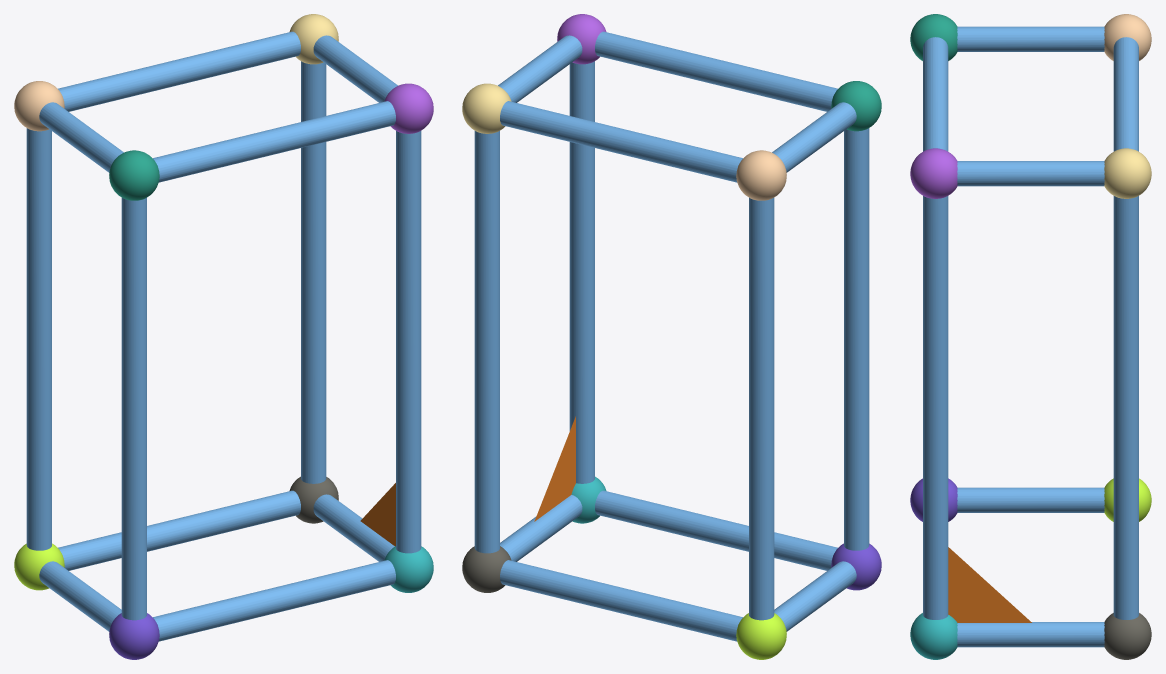
3 views of the same model, side by side, from view 1: azimuth 30°, elevation 25°; view 2: azimuth 150°, elevation 25°; view 3: azimuth 270°, elevation 25° (orthographic).
Visible parts, largest first — view 1: Object_3, Object_19, Object_20, Object_18, Object_21, Object_2, Object_23, Object_17, Object_24, Object_22; view 2: Object_3, Object_2, Object_23, Object_17, Object_24, Object_22, Object_19, Object_20, Object_18, Object_21; view 3: Object_3, Object_24, Object_17, Object_18, Object_22, Object_21, Object_2, Object_19, Object_20, Object_23.
Part boxes in pixels (left/top/right/bottom): Object_3: left=26, top=31, right=421, bottom=641; Object_19: left=109, top=150, right=159, bottom=200; Object_20: left=109, top=613, right=159, bottom=659; Object_18: left=384, top=83, right=433, bottom=133; Object_21: left=384, top=546, right=433, bottom=592; Object_2: left=14, top=81, right=64, bottom=131; Object_23: left=14, top=543, right=64, bottom=590; Object_17: left=289, top=14, right=338, bottom=64; Object_24: left=360, top=483, right=395, bottom=546; Object_22: left=289, top=476, right=338, bottom=523; Object_3: left=474, top=31, right=869, bottom=641; Object_2: left=736, top=150, right=786, bottom=200; Object_23: left=736, top=613, right=786, bottom=659; Object_17: left=462, top=83, right=511, bottom=133; Object_24: left=534, top=416, right=575, bottom=521; Object_22: left=462, top=546, right=511, bottom=592; Object_19: left=831, top=81, right=881, bottom=131; Object_20: left=831, top=543, right=881, bottom=590; Object_18: left=557, top=14, right=606, bottom=64; Object_21: left=571, top=476, right=606, bottom=523; Object_3: left=923, top=26, right=1138, bottom=647; Object_24: left=948, top=547, right=1031, bottom=622; Object_17: left=1104, top=148, right=1151, bottom=198; Object_18: left=910, top=148, right=957, bottom=198; Object_22: left=1104, top=613, right=1151, bottom=659; Object_21: left=910, top=613, right=957, bottom=659; Object_2: left=1104, top=14, right=1151, bottom=60; Object_19: left=910, top=14, right=957, bottom=60; Object_20: left=910, top=478, right=957, bottom=521; Object_23: left=1104, top=478, right=1151, bottom=521.
Size of the model in its own units: 0.6591 by 1 by 0.4318.
